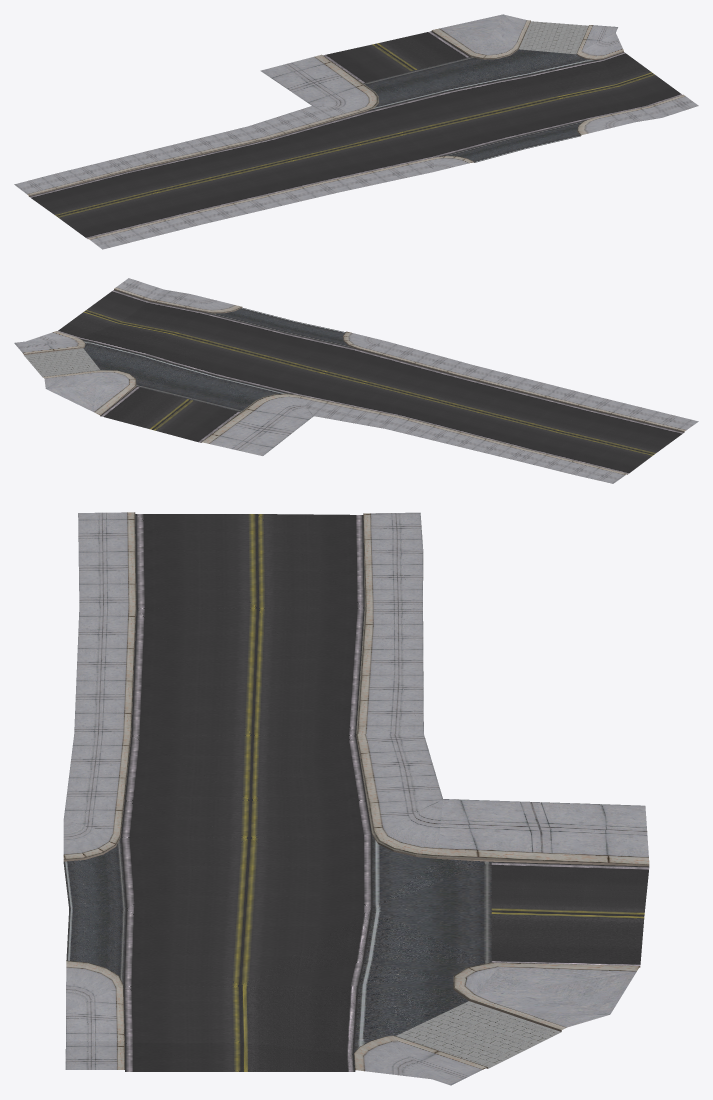
File: roads27_law2.obj
3 renders of one model, top to bottom at view 1: azimuth 30°, elevation 25°; view 2: azimuth 150°, elevation 25°; view 3: azimuth 270°, elevation 25°, orthographic. The views are drawn at different scales.
Parts seen in each view (by area): view 1: Roads27_LAw2; view 2: Roads27_LAw2; view 3: Roads27_LAw2.
Boxes of the visible parts, x1,y1,x2,y2 form: Roads27_LAw2: (14, 14, 698, 249); Roads27_LAw2: (14, 278, 698, 483); Roads27_LAw2: (63, 512, 649, 1085).
Size of the model in its own units: 120 by 1.28 by 51.3.
